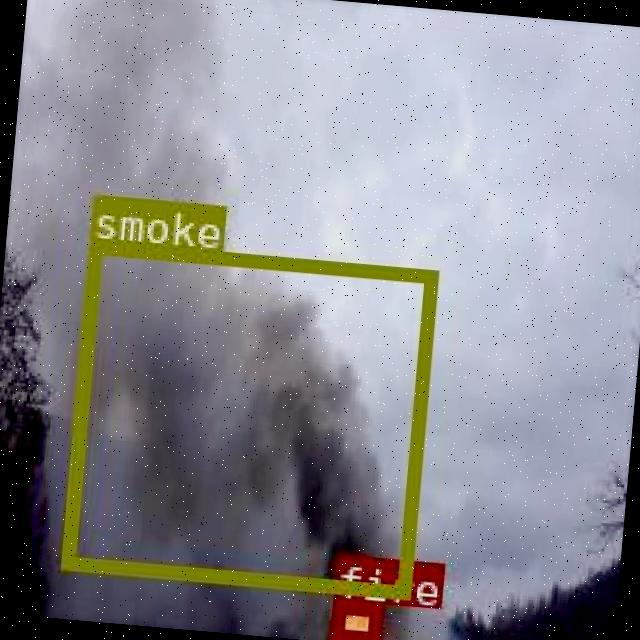fire: (328, 597, 378, 640)
smoke: (59, 239, 436, 595)
